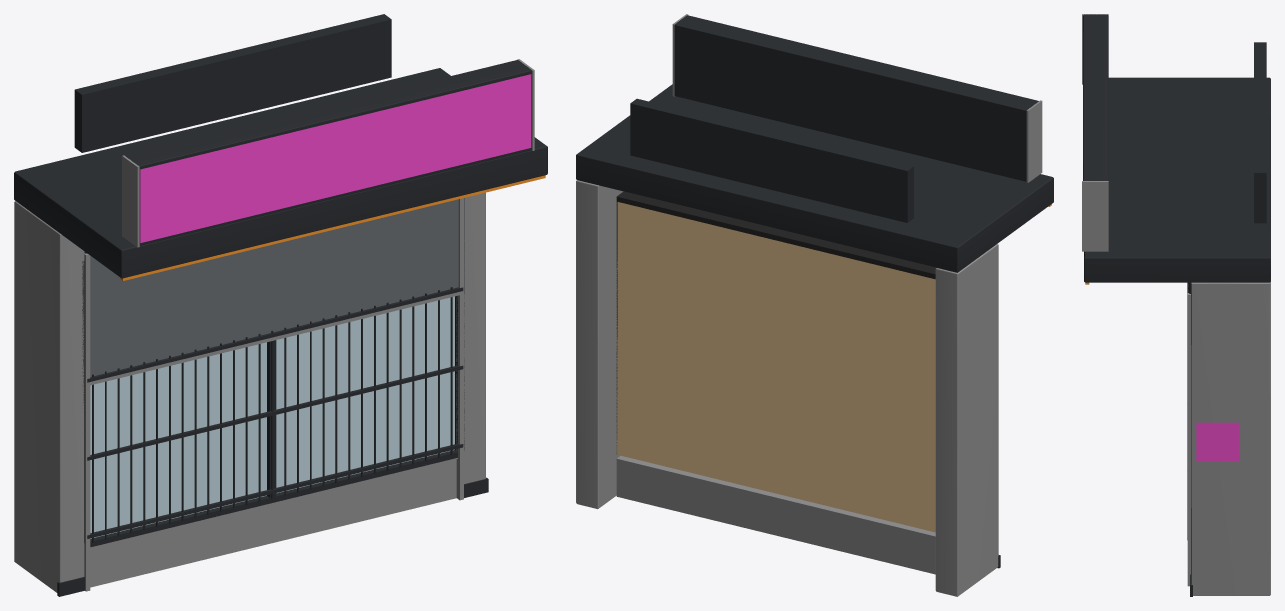
The model's file is St_Shop_Pawn_B.fbx.
3 renders of one model, left to right at view 1: azimuth 30°, elevation 25°; view 2: azimuth 150°, elevation 25°; view 3: azimuth 270°, elevation 25°, orthographic. The views are drawn at different scales.
Visible parts, largest first — view 1: St_Shop_Pawn_B_LOD0; view 2: St_Shop_Pawn_B_LOD0; view 3: St_Shop_Pawn_B_LOD0.
Boxes of the visible parts, x1=… form: St_Shop_Pawn_B_LOD0: x1=14, y1=14, x2=547, y2=596; St_Shop_Pawn_B_LOD0: x1=576, y1=14, x2=1053, y2=596; St_Shop_Pawn_B_LOD0: x1=1082, y1=14, x2=1270, y2=596.
Size of what is drawn, in the model's own units: 4.02 by 4.22 by 1.77.
